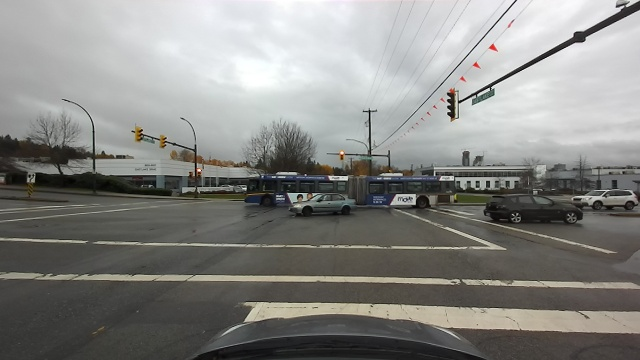car: (482, 190, 586, 226), (281, 190, 358, 217), (574, 181, 638, 212), (229, 183, 245, 194)
